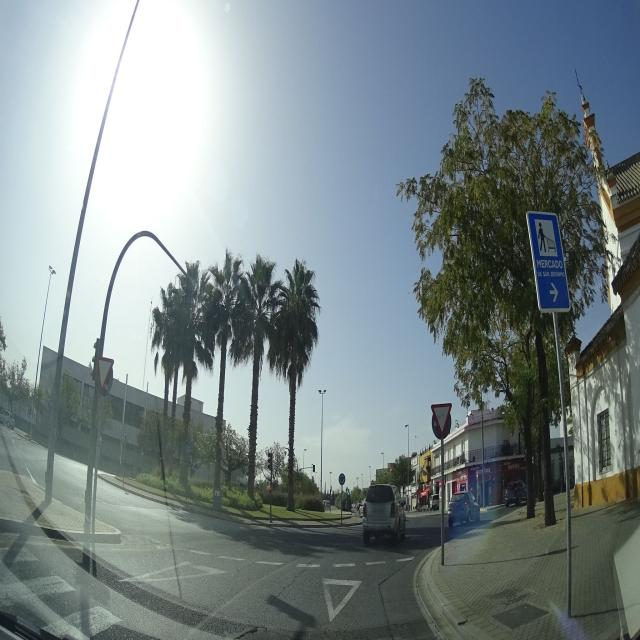car: (362, 483, 406, 543), (447, 491, 481, 526), (503, 480, 528, 506), (428, 495, 442, 511)
